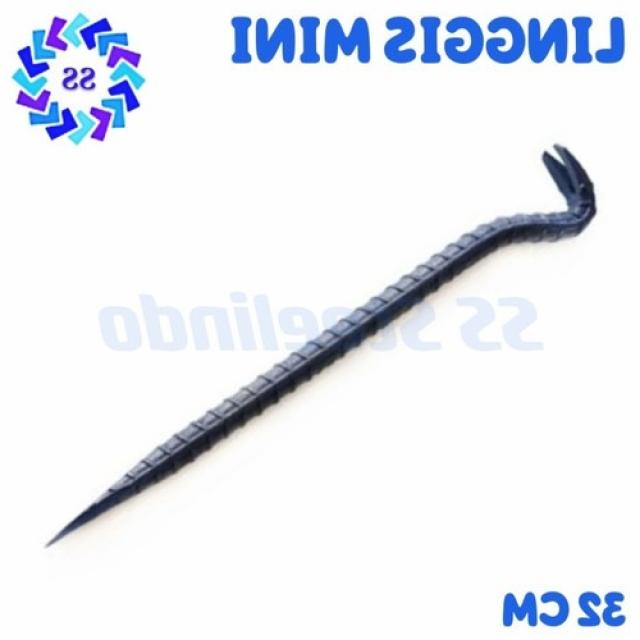Linggis: (46, 146, 596, 552)
